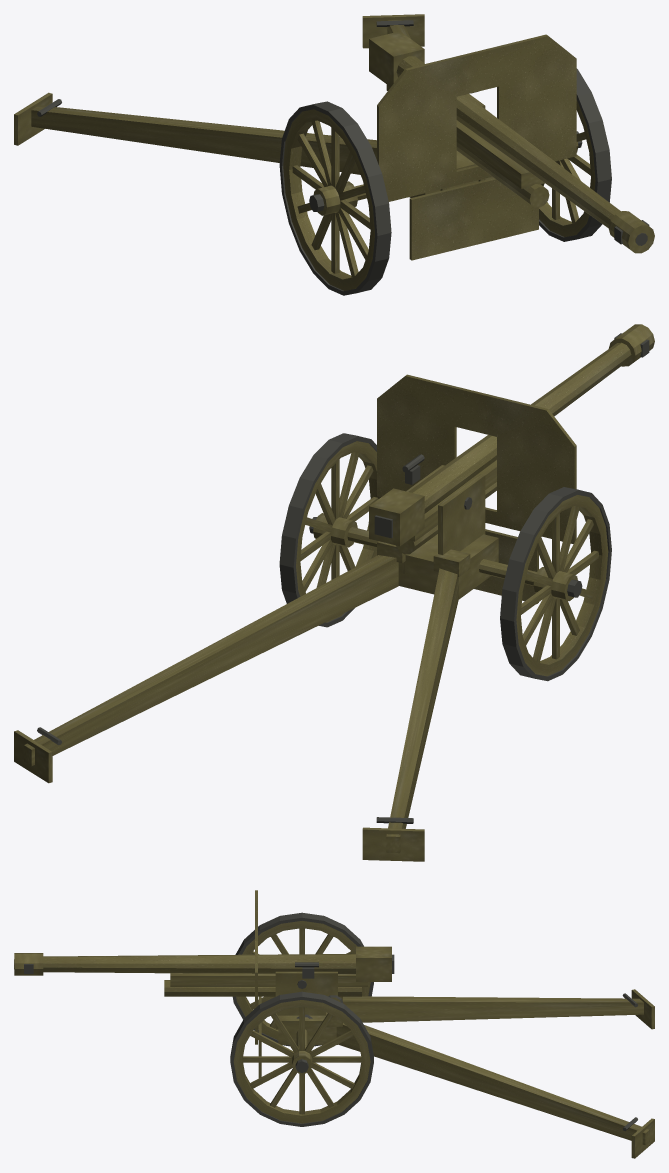
Rendered from artillery.glb.
3 renders of one model, top to bottom at view 1: azimuth 30°, elevation 25°; view 2: azimuth 150°, elevation 25°; view 3: azimuth 270°, elevation 25°, orthographic. The views are drawn at different scales.
Visible parts, largest first — view 1: bouclier, longeron_right, tablier, tube, rayons_right, bandage_right, jante_right, bandage_left, culasse, berceau, jante_left, beche_left (+5 smaller); view 2: bouclier, longeron_left, longeron_right, tube, bandage_right, rayons_right, jante_right, rayons_left, bandage_left, corps, flasques, culasse (+8 smaller); view 3: longeron_left, longeron_right, tube, rayons_left, jante_left, bandage_left, berceau, flasques, jante_right, recuperateur, bandage_right, culasse (+5 smaller).
Part boxes in pixels (box(x1,y1,x2,y2)): bouclier: box(377, 34, 576, 201); longeron_right: box(31, 105, 376, 174); tablier: box(409, 178, 538, 260); tube: box(396, 56, 620, 227); rayons_right: box(292, 120, 370, 277); bandage_right: box(279, 101, 391, 295); jante_right: box(283, 109, 374, 290); bandage_left: box(539, 68, 611, 241); culasse: box(369, 31, 424, 86); berceau: box(386, 84, 544, 188); jante_left: box(539, 99, 595, 236); beche_left: box(362, 14, 424, 48); bouclier: box(377, 374, 576, 544); longeron_left: box(24, 555, 398, 765); longeron_right: box(386, 568, 458, 853); tube: box(408, 342, 631, 513); bandage_right: box(500, 487, 611, 681); rayons_right: box(521, 506, 598, 662); jante_right: box(516, 495, 608, 676); rayons_left: box(300, 452, 378, 591); bandage_left: box(279, 433, 376, 627); corps: box(398, 534, 498, 599); flasques: box(400, 465, 485, 574); culasse: box(369, 488, 424, 546); longeron_left: box(336, 1023, 649, 1145); longeron_right: box(343, 996, 643, 1022); tube: box(43, 954, 355, 973); rayons_left: box(242, 1007, 361, 1114); jante_left: box(233, 1000, 370, 1123); bandage_left: box(230, 991, 373, 1126); berceau: box(170, 973, 367, 986); flasques: box(275, 971, 337, 1029); jante_right: box(236, 921, 370, 1039); recuperateur: box(164, 980, 361, 996); bandage_right: box(232, 912, 373, 1046); culasse: box(356, 946, 391, 981).
Size of the model in its own units: 1.27 by 0.6802 by 2.33.
Materials: 2 (1 with a texture image).
